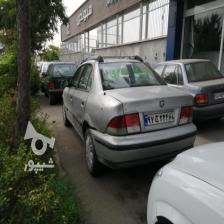plate: (144, 110, 174, 127), (212, 92, 224, 100)
